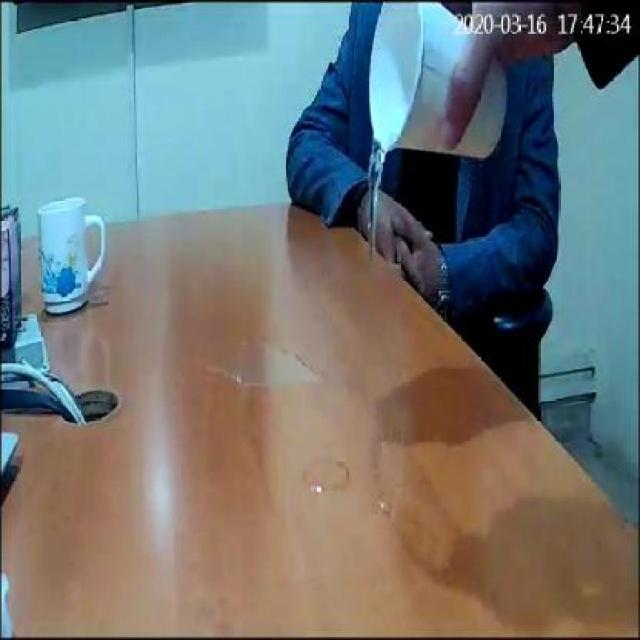spill: (201, 346, 327, 388), (298, 446, 352, 496)
